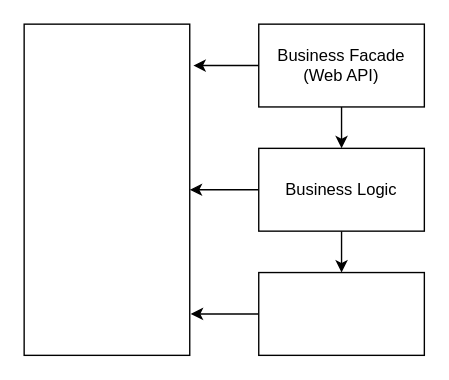
Image size: 449x380. Some labels were removed from this diagram. The centre of each missing label's shape, as x and y in pixels:
Common Logic: pixel 106 189
Infrastructure (Data Access): pixel 340 313
